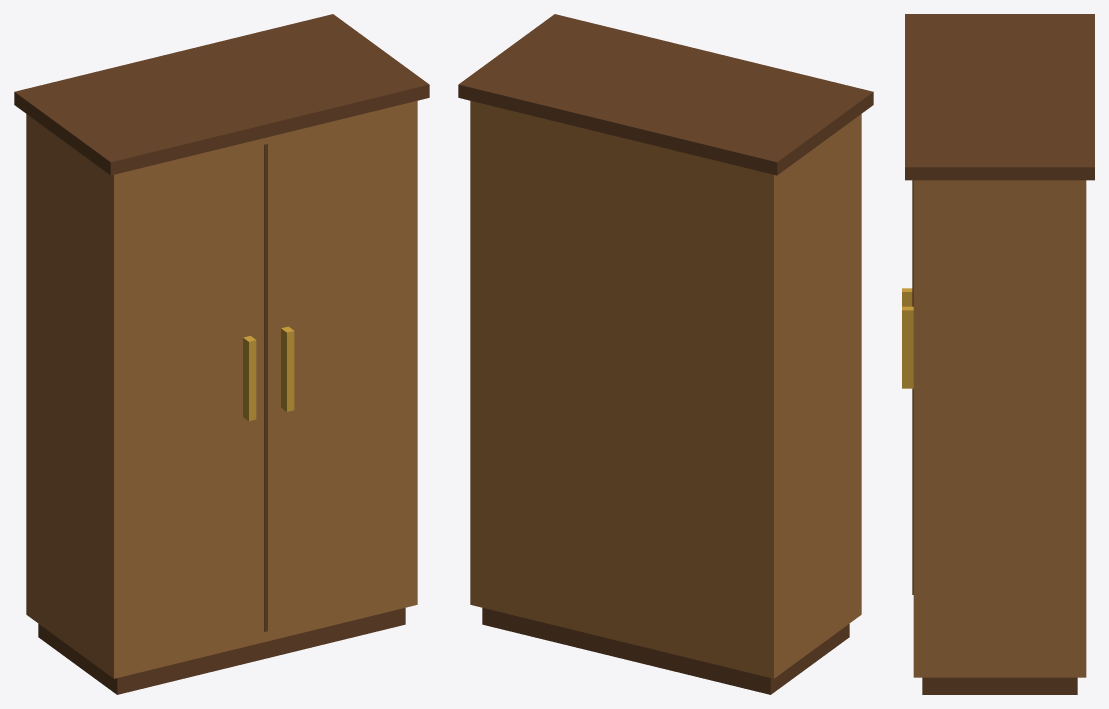
The model's file is wardrobe.glb.
3 renders of one model, left to right at view 1: azimuth 30°, elevation 25°; view 2: azimuth 150°, elevation 25°; view 3: azimuth 270°, elevation 25°, orthographic.
Parts seen in each view (by area): view 1: Body, Top, Plinth, Split, Handle_0, Handle_1; view 2: Body, Top, Plinth; view 3: Body, Top, Plinth, Handle_1, Split.
Boxes of the visible parts, left/top/right/bottom form: Body: left=26, top=101, right=417, bottom=678; Top: left=14, top=14, right=429, bottom=175; Plinth: left=38, top=608, right=405, bottom=694; Split: left=264, top=143, right=267, bottom=631; Handle_0: left=243, top=336, right=256, bottom=421; Handle_1: left=281, top=326, right=294, bottom=411; Body: left=470, top=101, right=861, bottom=678; Top: left=458, top=14, right=873, bottom=175; Plinth: left=482, top=608, right=849, bottom=694; Body: left=913, top=180, right=1086, bottom=677; Top: left=905, top=14, right=1094, bottom=180; Plinth: left=922, top=677, right=1077, bottom=694; Handle_1: left=902, top=306, right=913, bottom=388; Split: left=912, top=180, right=913, bottom=594.
Size of the model in its own units: 1.26 by 2.05 by 0.67.
